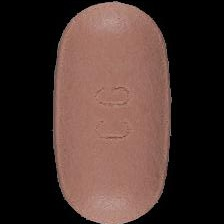49999-880: (0, 0, 224, 224)
